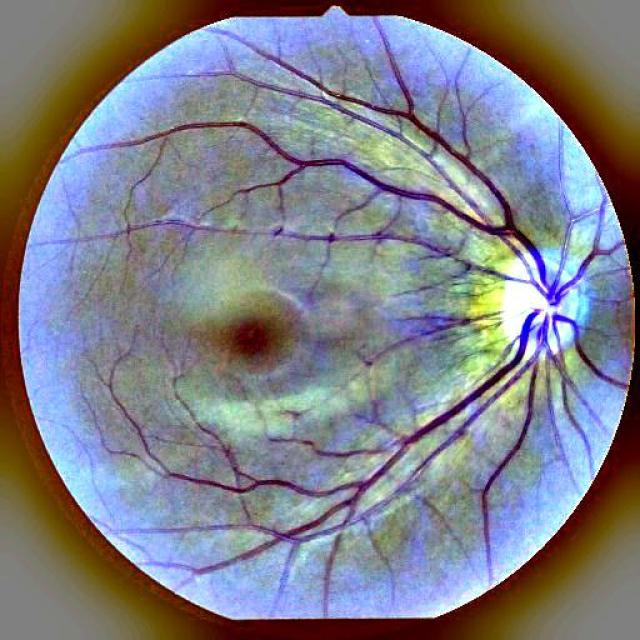Macula: (203, 300, 288, 373)
Nerves: (345, 228, 500, 275)
Optic Disk: (81, 16, 634, 618), (506, 247, 585, 349)
